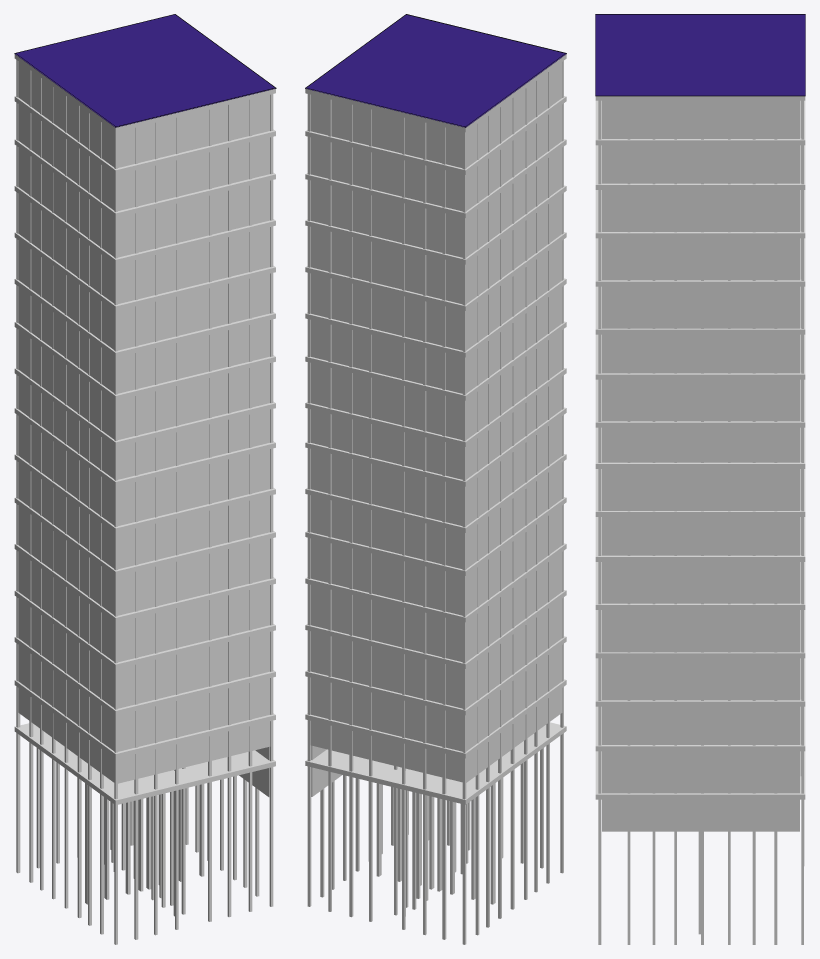
File: buildingIB.fbx
The picture shows the model from 3 angles, left to right: view 1: azimuth 30°, elevation 25°; view 2: azimuth 150°, elevation 25°; view 3: azimuth 270°, elevation 25°; orthographic projection. The views are drawn at different scales.
Visible parts, largest first — view 1: Cube.002, Cube, Cube.004, Cube.001, Cube.005, Cube.003; view 2: Cube.002, Cube, Cube.005, Cube.003, Cube.004, Cube.001; view 3: Cube.002, Cube, Cube.001, Cube.003.
Part boxes in pixels (x1,y1,x2,y2): Cube.002: (18, 61, 270, 797); Cube: (14, 14, 276, 805); Cube.004: (64, 95, 185, 944); Cube.001: (138, 94, 273, 921); Cube.005: (16, 60, 151, 904); Cube.003: (104, 783, 207, 891); Cube.002: (310, 62, 562, 796); Cube: (305, 14, 566, 804); Cube.005: (394, 106, 501, 944); Cube.003: (307, 94, 442, 921); Cube.004: (429, 61, 563, 909); Cube.001: (355, 778, 470, 891); Cube.002: (602, 100, 801, 831); Cube: (595, 14, 805, 799); Cube.001: (598, 100, 703, 944); Cube.003: (698, 100, 803, 944).
Size of the model in its own units: 7016 by 34114 by 7649.
